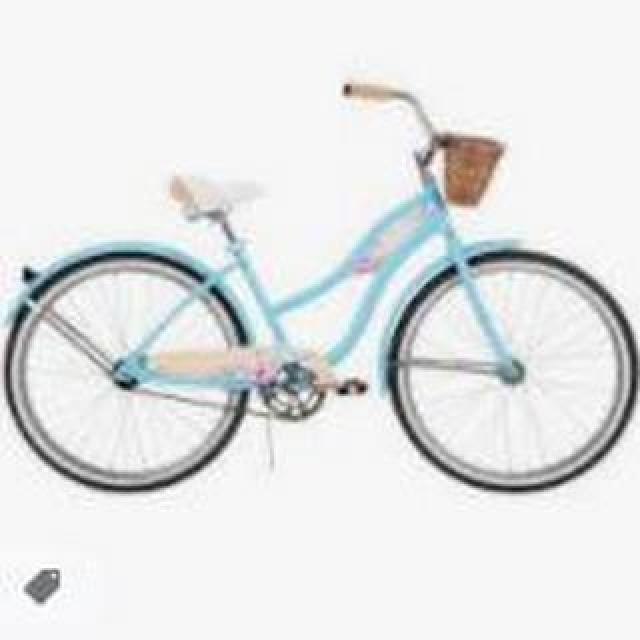Person: (6, 82, 638, 494)
